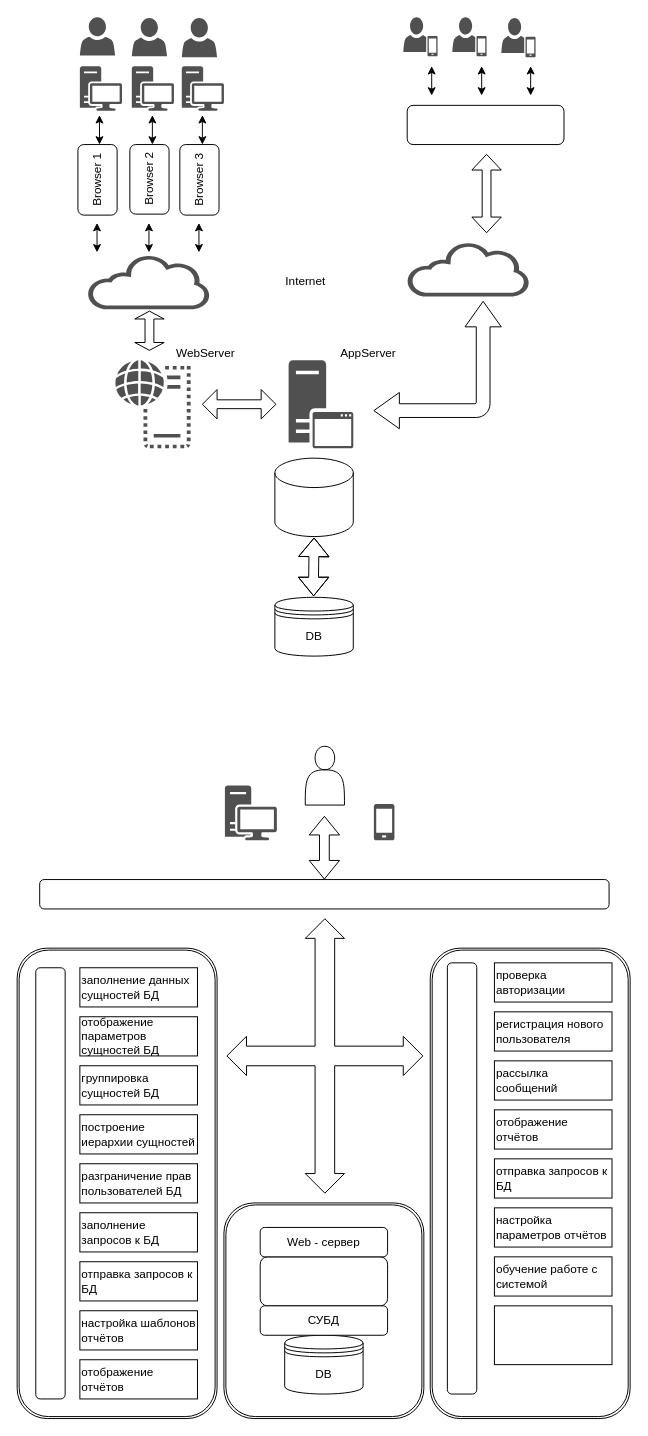
Image size: 648x1436. Some labels were removed from this diagram. The box of each missing label's shape, as (x1, y1, x2, y2) in pixels:
PostgreSQL: (274, 457, 353, 537)
Telegram: (406, 104, 564, 145)
Telegram - бот: (446, 962, 477, 1394)
Web - приложение: (35, 967, 65, 1399)
Авторизация: (39, 879, 609, 909)
получение и обработка оперативной информации: (493, 1305, 612, 1365)
Сервер приложений: (259, 1256, 388, 1306)
